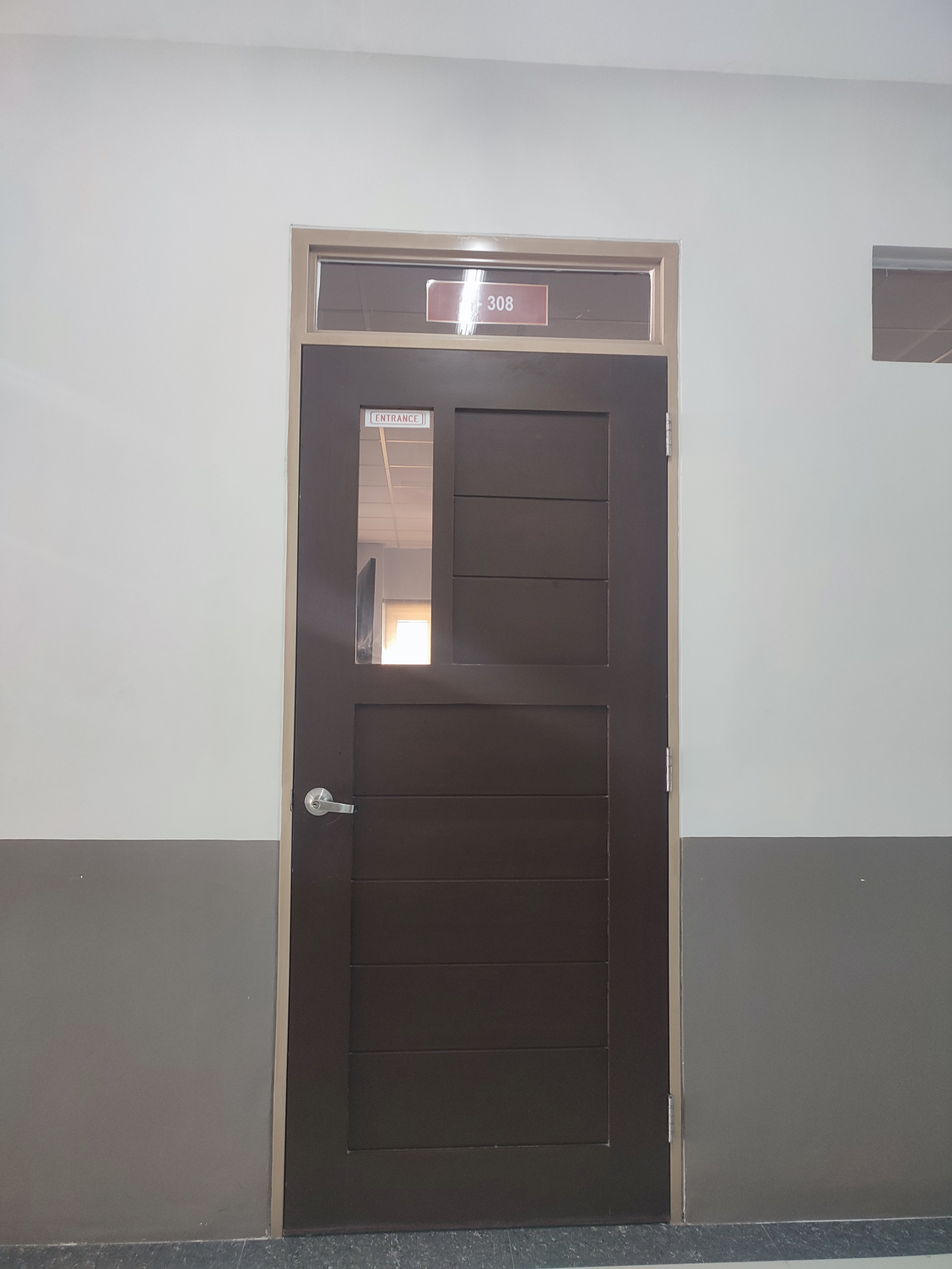door: (268, 222, 690, 1251)
